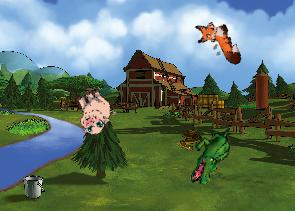crocodile: (189, 124, 232, 187)
fox: (191, 13, 244, 74)
pig: (67, 84, 119, 138)
